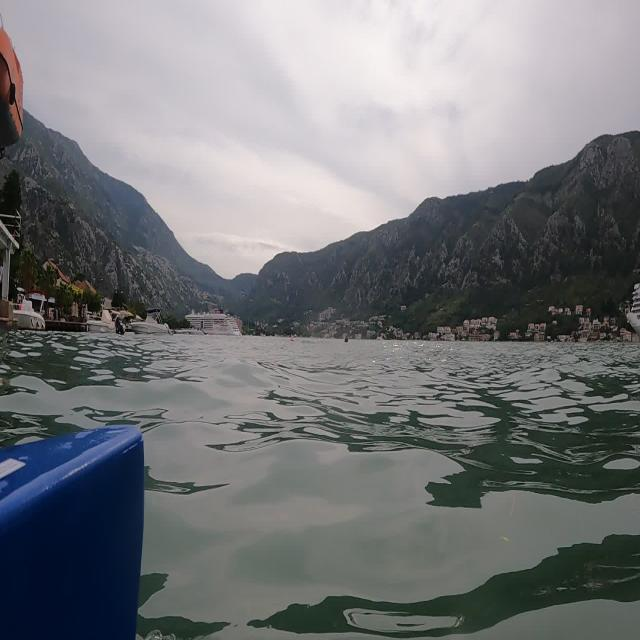boat: (175, 307, 258, 355), (129, 299, 178, 346), (82, 293, 126, 344), (12, 286, 52, 342)
buoy: (1, 420, 147, 638)
